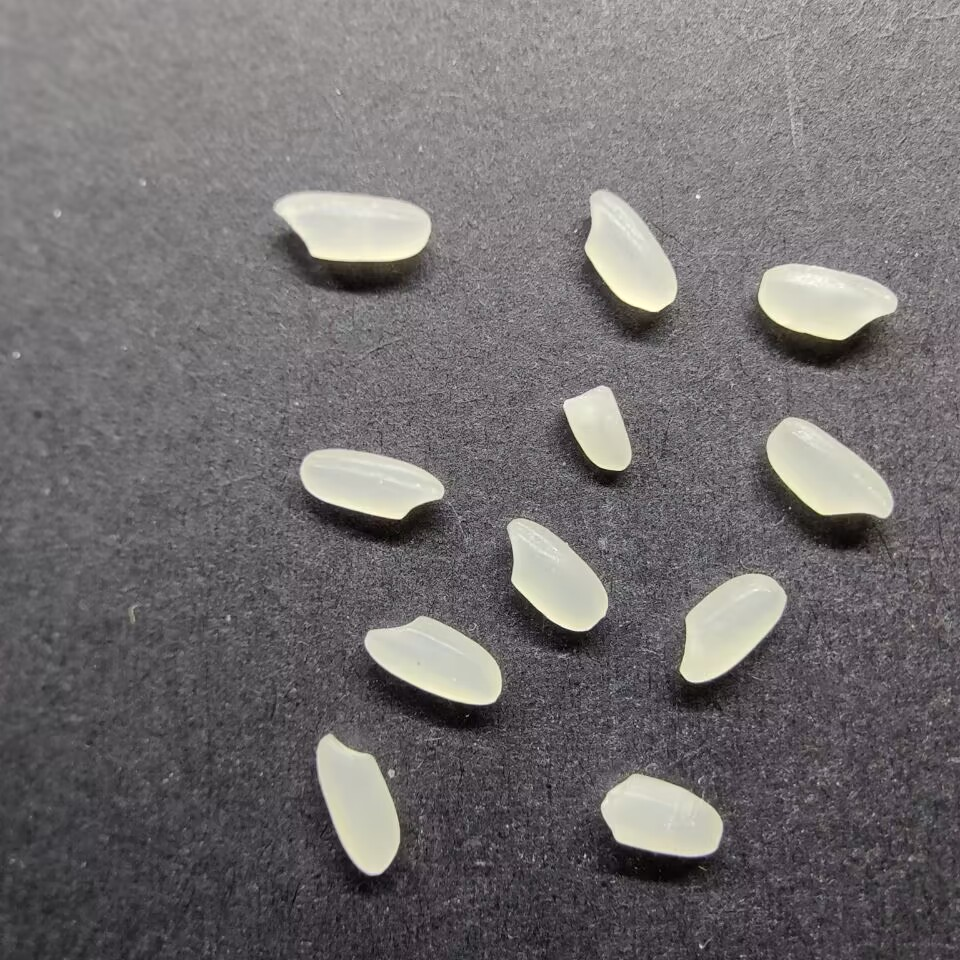broken: (597, 773, 725, 859), (560, 382, 634, 472)
rice: (764, 415, 895, 519), (310, 732, 402, 877), (361, 614, 505, 705), (503, 515, 610, 634), (678, 571, 788, 685), (581, 188, 679, 314), (269, 191, 432, 263), (756, 262, 900, 343), (297, 447, 445, 522)
